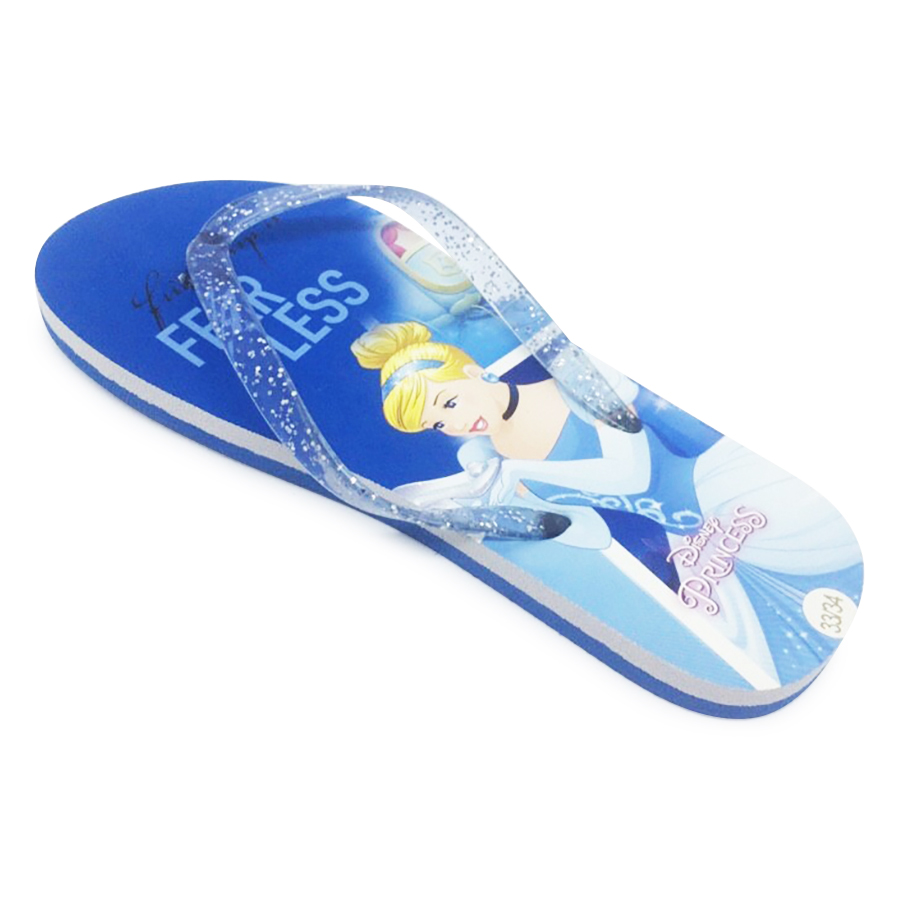Disney: (664, 504, 730, 579)
